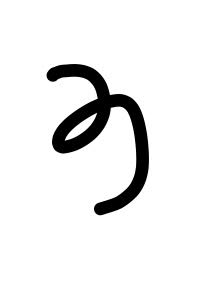n: (47, 90, 162, 157)
